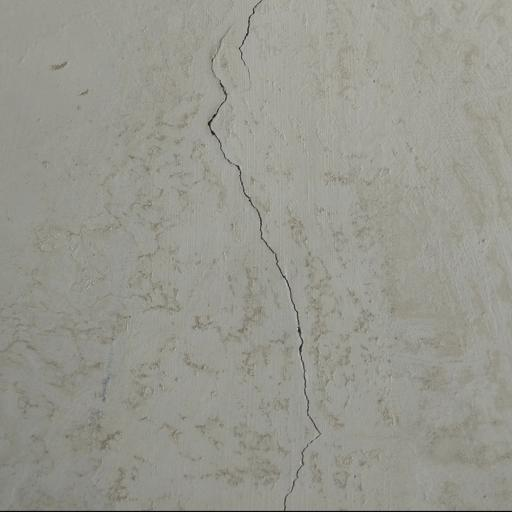minor_crack: (179, 0, 338, 512)
